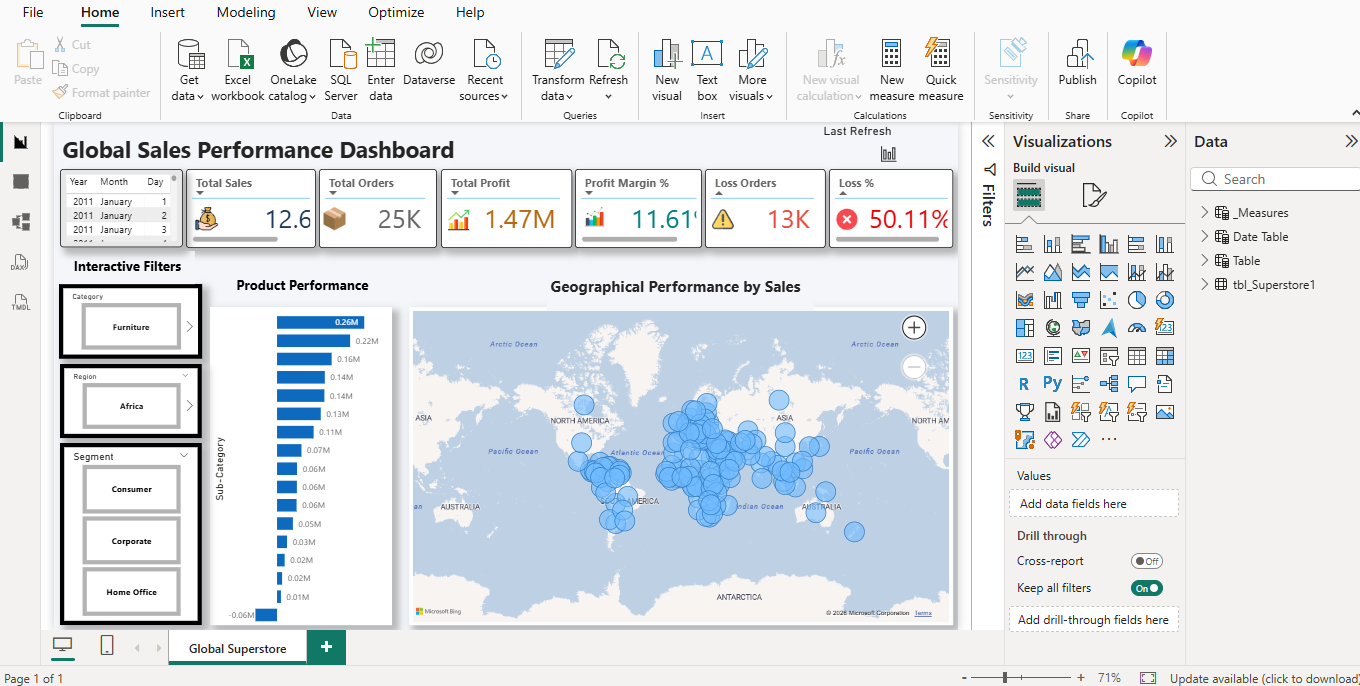

The page's visual inventory and layout, read from the dashboard file:
{"tool":"powerbi","page":{"name":"Global Superstore","canvas":[1280,720],"ordinal":0},"visuals":[{"type":"tableEx","title":"Total Sales","fields":{"Values":["tbl_Superstore1.Total Sales"]},"box":[187.3,66.6,184.3,112],"z":0},{"type":"tableEx","fields":{"Values":["tbl_Superstore1.Total Orders"]},"box":[375.6,66.6,167.2,112],"z":1000},{"type":"tableEx","fields":{"Values":["tbl_Superstore1.Total Profit"]},"box":[547.8,66.6,185.7,112],"z":2000},{"type":"tableEx","fields":{"Values":["tbl_Superstore1.Profit Margin %"]},"box":[738,66.6,180,112],"z":3000},{"type":"slicer","fields":{"Values":["tbl_Superstore1.Category"]},"box":[7.1,229.6,202.7,106.3],"z":4000},{"type":"tableEx","title":"Loss Orders","fields":{"Values":["tbl_Superstore1.Loss Orders"]},"box":[922.4,66.6,171.5,112],"z":5000},{"type":"tableEx","title":"Loss %","fields":{"Values":["tbl_Superstore1.Loss %"]},"box":[1098.4,66.6,175.7,112],"z":6000},{"type":"barChart","fields":{"Category":["tbl_Superstore1.Sub-Category"],"Y":["tbl_Superstore1.Total Profit"]},"box":[221.1,262.2,258,450.7],"z":7000},{"type":"slicer","fields":{"Values":["tbl_Superstore1.Region"]},"box":[8.5,343,201.3,104.9],"z":8000},{"type":"slicer","fields":{"Values":["tbl_Superstore1.Segment"]},"box":[8.5,455,201.3,258],"z":9000},{"type":"map","title":"Geographical Performance","fields":{"Category":["tbl_Superstore1.Country"]},"box":[503.1,262.2,771,450.7],"z":10000},{"type":"textbox","box":[253.7,212.6,205.5,38.3],"z":11000},{"type":"textbox","box":[7.1,11.3,633.5,55.3],"z":12000},{"type":"textbox","box":[8.5,182.8,191.3,46.8],"z":13000},{"type":"tableEx","fields":{"Values":["Date Table.Date.Variation.Date Hierarchy.Year","Date Table.Date.Variation.Date Hierarchy.Month","Date Table.Date.Variation.Date Hierarchy.Day"]},"box":[8.5,66.6,174.3,110.6],"z":15000},{"type":"textbox","box":[698.7,212.6,378.4,55.3],"z":17000},{"type":"image","box":[199.8,120.5,32.6,32.6],"z":17001},{"type":"image","box":[375.6,120.5,43.9,32.6],"z":17002},{"type":"image","box":[558.4,120.5,29.8,36.9],"z":17003},{"type":"image","box":[748.3,120.5,35.4,28.3],"z":17004},{"type":"image","box":[932.6,116.2,31.2,42.5],"z":17005},{"type":"image","box":[1108.3,113.4,31.2,48.2],"z":17006},{"type":"clusteredColumnChart","box":[1085.7,2.8,194.2,63.8],"z":17007}]}

Visuals, with their boxes on the page's 1280x720 design canvas (x1, y1, x2, y2). These are canvas units, not pixel positions in the 1360x686 screenshot, which may show the page scaled, cropped or inside an application window:
"Total Sales" tableEx: crop(187, 67, 372, 179)
tableEx - tbl_Superstore1.Total Orders: crop(376, 67, 543, 179)
tableEx - tbl_Superstore1.Total Profit: crop(548, 67, 734, 179)
tableEx - tbl_Superstore1.Profit Margin %: crop(738, 67, 918, 179)
slicer - tbl_Superstore1.Category: crop(7, 230, 210, 336)
"Loss Orders" tableEx: crop(922, 67, 1094, 179)
"Loss %" tableEx: crop(1098, 67, 1274, 179)
barChart - tbl_Superstore1.Sub-Category x tbl_Superstore1.Total Profit: crop(221, 262, 479, 713)
slicer - tbl_Superstore1.Region: crop(8, 343, 210, 448)
slicer - tbl_Superstore1.Segment: crop(8, 455, 210, 713)
"Geographical Performance" map: crop(503, 262, 1274, 713)
textbox: crop(254, 213, 459, 251)
textbox: crop(7, 11, 641, 67)
textbox: crop(8, 183, 200, 230)
tableEx - Date Table.Date.Variation.Date Hierarchy.Year x Date Table.Date.Variation.Date Hierarchy.Month: crop(8, 67, 183, 177)
textbox: crop(699, 213, 1077, 268)
image: crop(200, 120, 232, 153)
image: crop(376, 120, 420, 153)
image: crop(558, 120, 588, 157)
image: crop(748, 120, 784, 149)
image: crop(933, 116, 964, 159)
image: crop(1108, 113, 1140, 162)
clusteredColumnChart: crop(1086, 3, 1280, 67)
